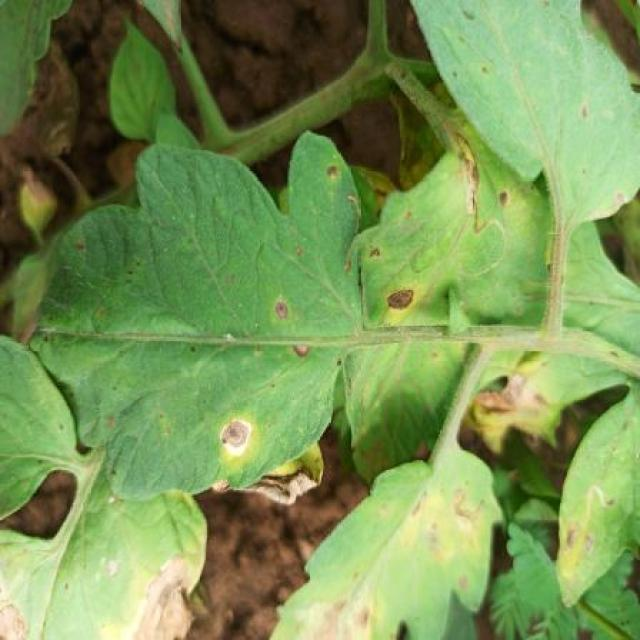Early Blight: (28, 131, 355, 496)
